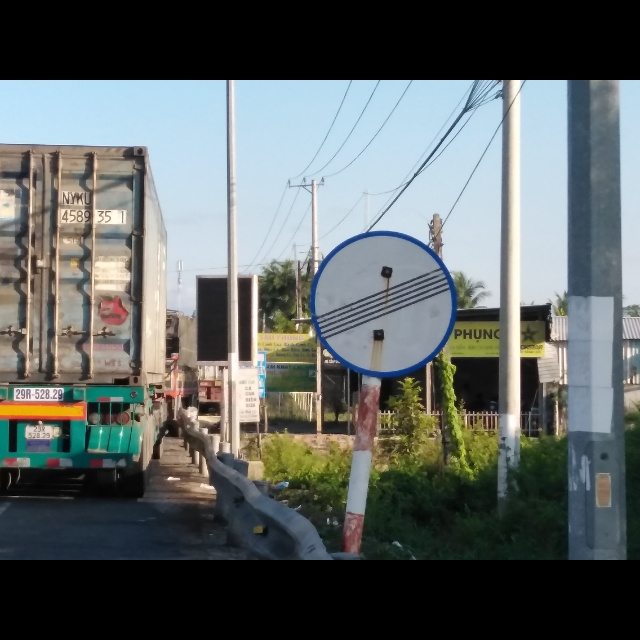Hết tất cả các lệnh cấm: (303, 230, 461, 381)
